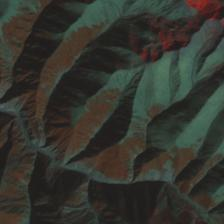landslides: (20, 146, 34, 158), (63, 207, 88, 213), (31, 203, 47, 212), (18, 180, 34, 187), (6, 118, 17, 128)
